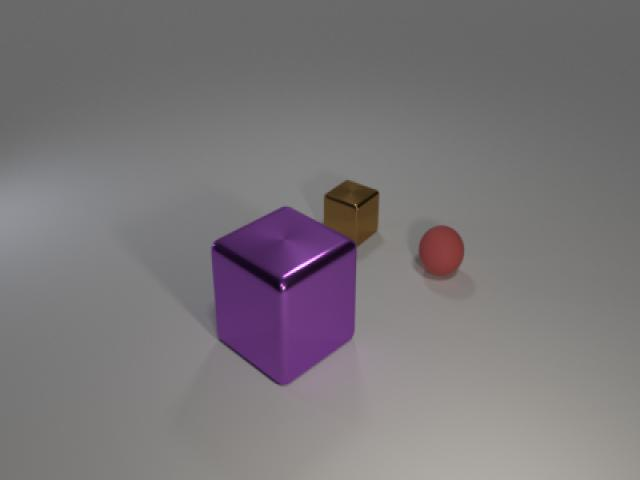round ball: (412, 216, 471, 284)
